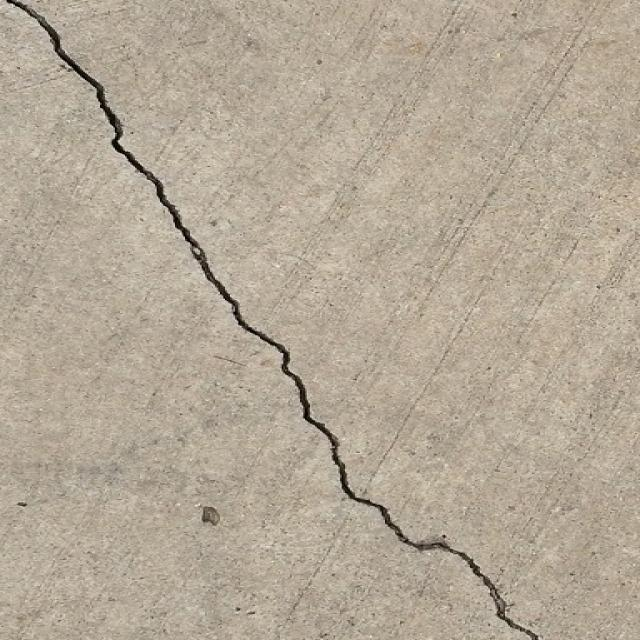crack: (0, 1, 552, 638)
